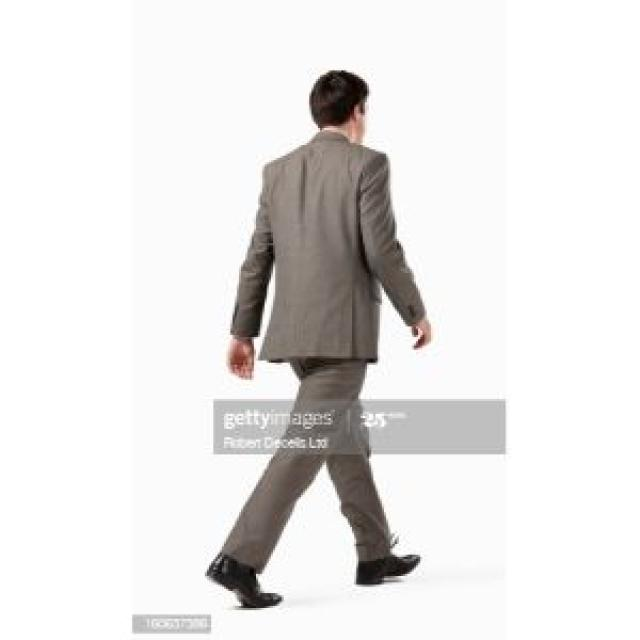nonfall: (202, 64, 452, 598)
